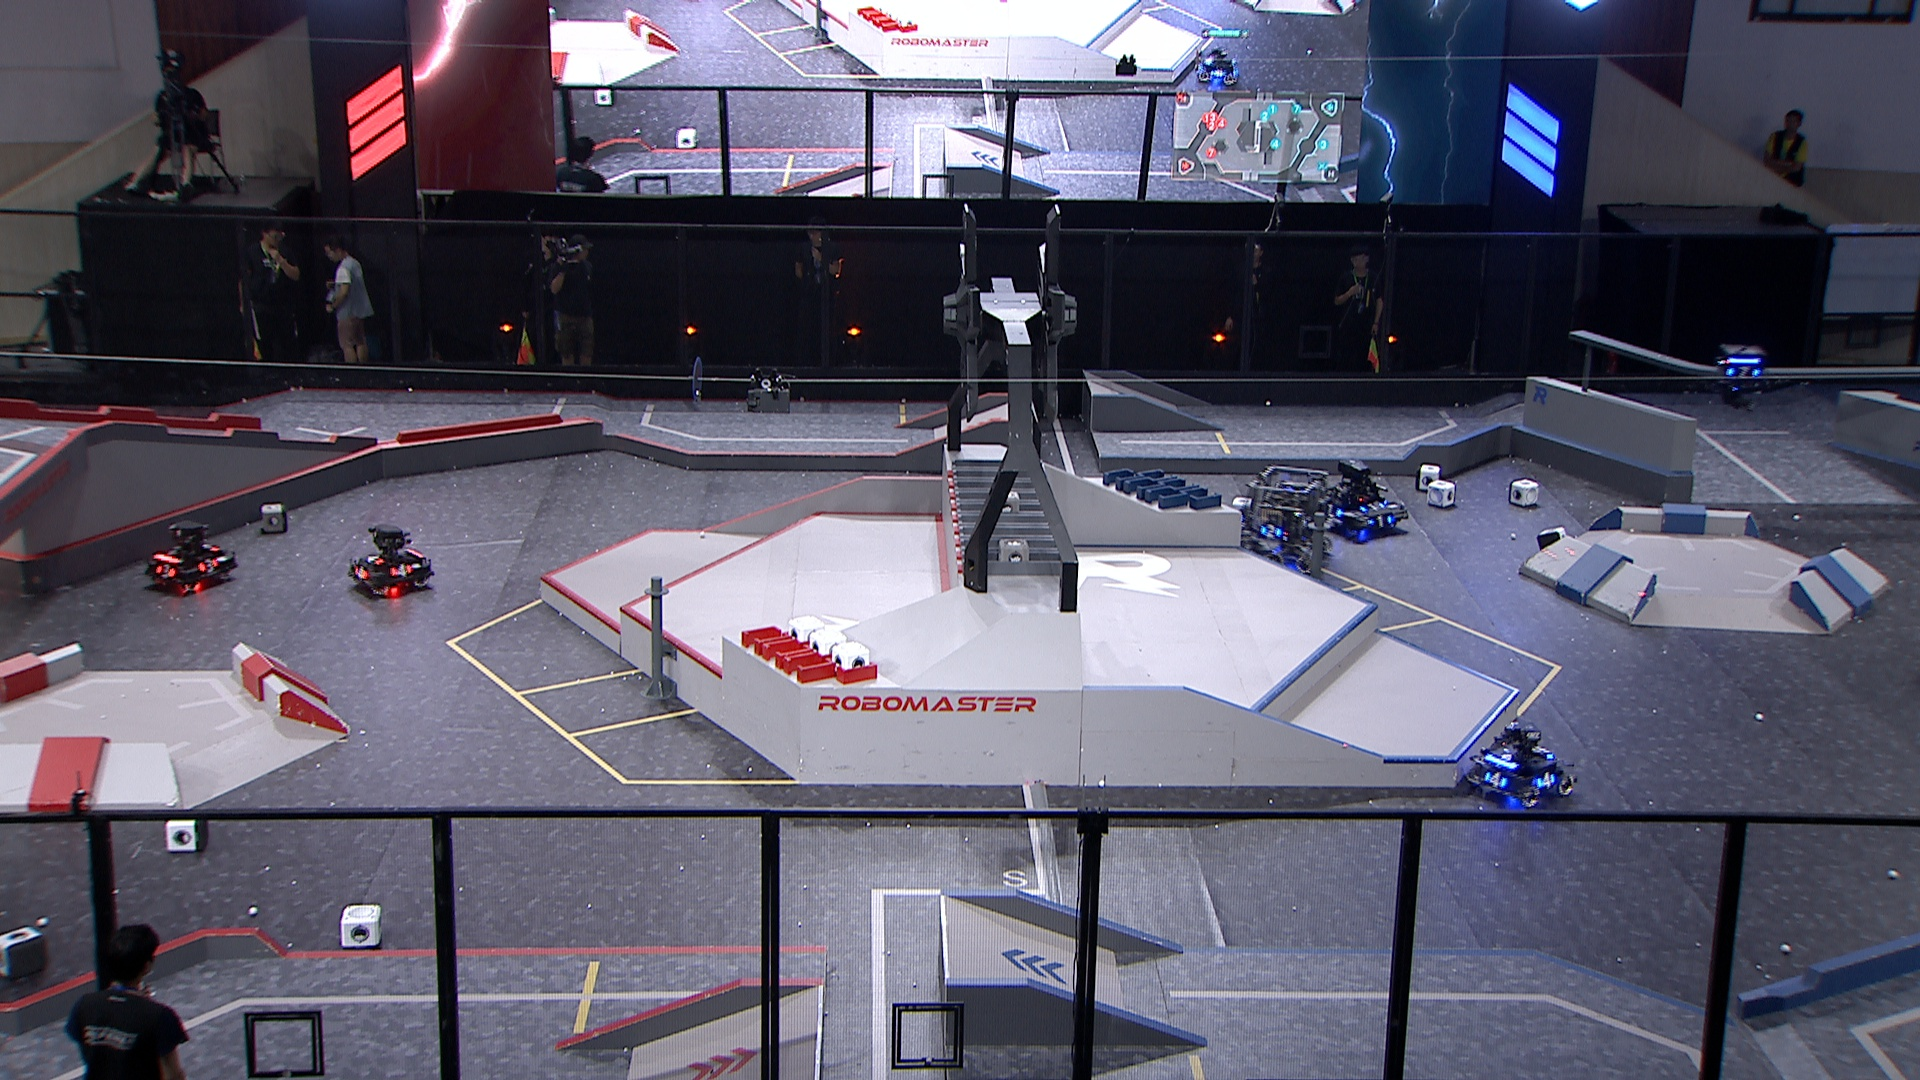armor: (1480, 769, 1505, 789), (196, 553, 222, 571), (1367, 512, 1394, 527), (1316, 501, 1342, 517), (1727, 367, 1760, 378), (1531, 740, 1552, 757), (1361, 500, 1385, 514), (1534, 773, 1557, 787), (154, 564, 175, 580), (351, 564, 368, 582), (1261, 524, 1282, 537), (390, 564, 410, 578), (367, 553, 382, 564)
car: (1232, 465, 1338, 576), (1465, 717, 1576, 814), (1313, 451, 1411, 545), (141, 522, 244, 593), (345, 524, 438, 600)
ignore: (1196, 49, 1240, 90)
watcher: (1712, 343, 1770, 415)
